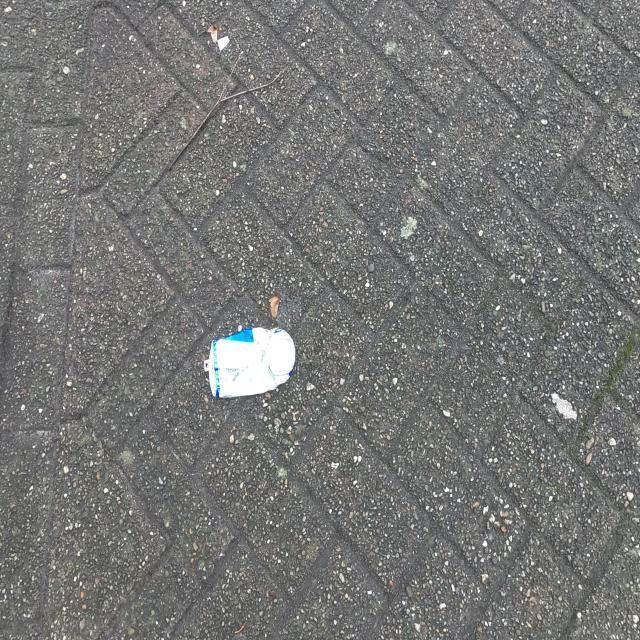Can-Metal: (206, 324, 296, 396)
